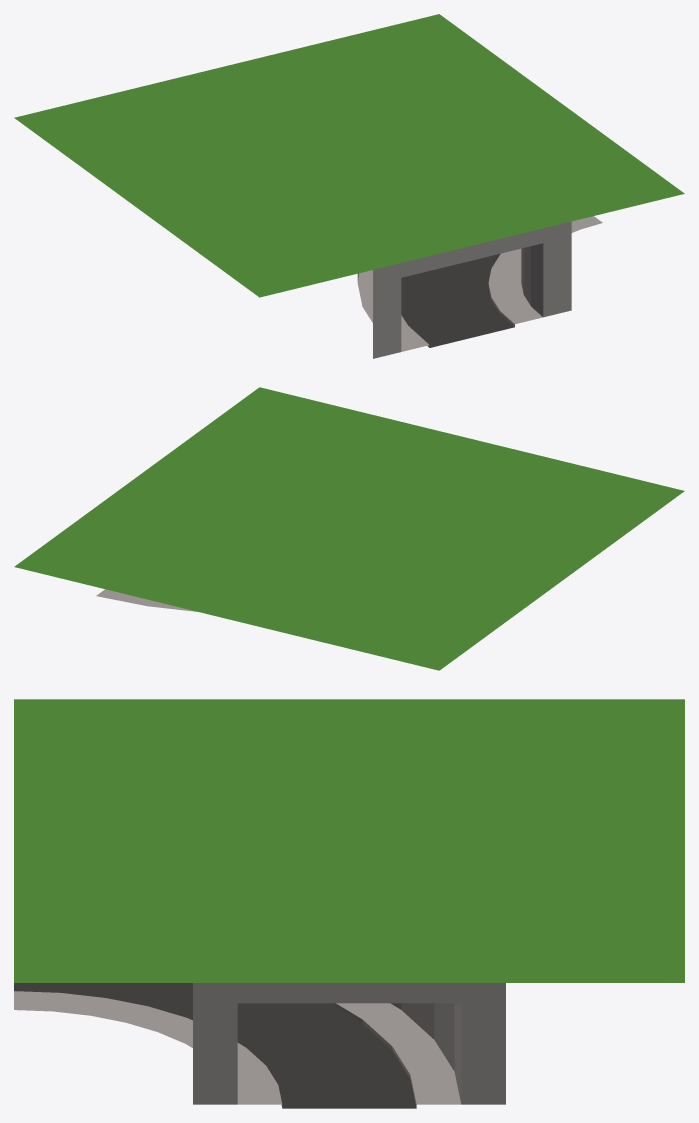
Rendered from tiles-nb-tile-road-tunnel-curve-nb.glb.
The picture shows the model from 3 angles, top to bottom: view 1: azimuth 30°, elevation 25°; view 2: azimuth 150°, elevation 25°; view 3: azimuth 270°, elevation 25°; orthographic projection. The views are drawn at different scales.
Visible parts, largest first — view 1: tile-road-tunnel-curve-nb; view 2: tile-road-tunnel-curve-nb; view 3: tile-road-tunnel-curve-nb.
Boxes of the visible parts, left/top/right/bottom form: tile-road-tunnel-curve-nb: left=14, top=14, right=684, bottom=358; tile-road-tunnel-curve-nb: left=14, top=387, right=684, bottom=670; tile-road-tunnel-curve-nb: left=14, top=699, right=684, bottom=1108.
Size of the model in its own units: 30 by 6.2 by 30.
